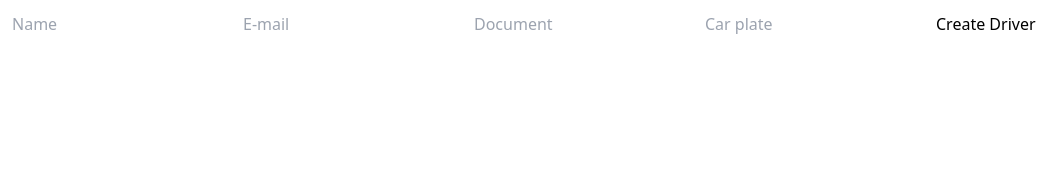
Create Driver Integration Test › should not be able create a driver with email invalid
In the field with class "driver-name": (128, 24) [12,12,243,36], type "John Dow"
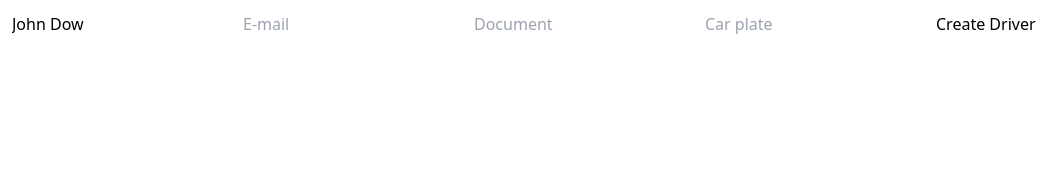
In the field with class "driver-email": (358, 24) [243,12,474,36], type "john.doe@gmail"
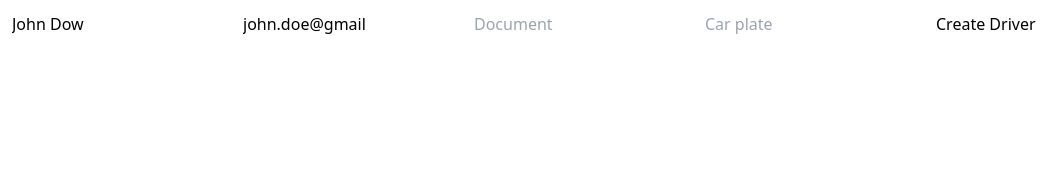
In the field with class "driver-document": (590, 24) [474,12,705,36], type "83432616074"
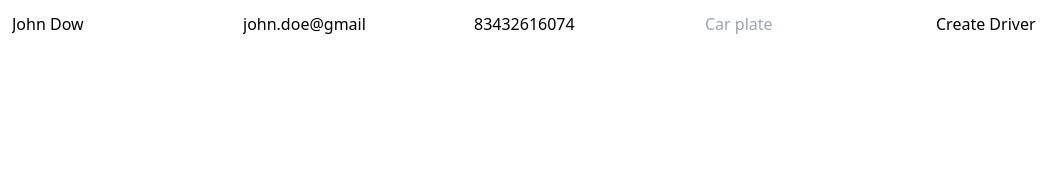
In the field with class "driver-carPlate": (820, 24) [705,12,936,36], type "AAA9999"
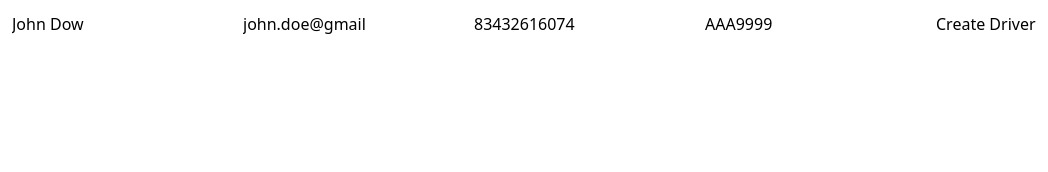
Click the button with class "create-driver": (986, 24) [936,12,1036,36]
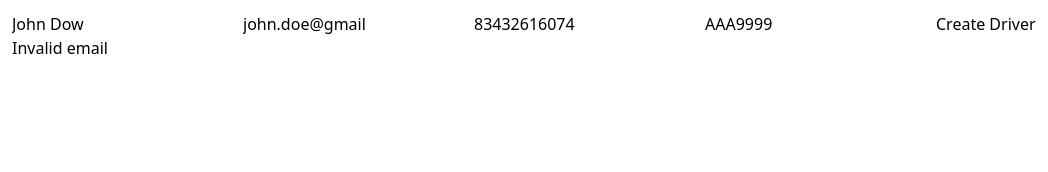
Expected: the text with class "error" reads "Invalid email", [12,37,108,59]
